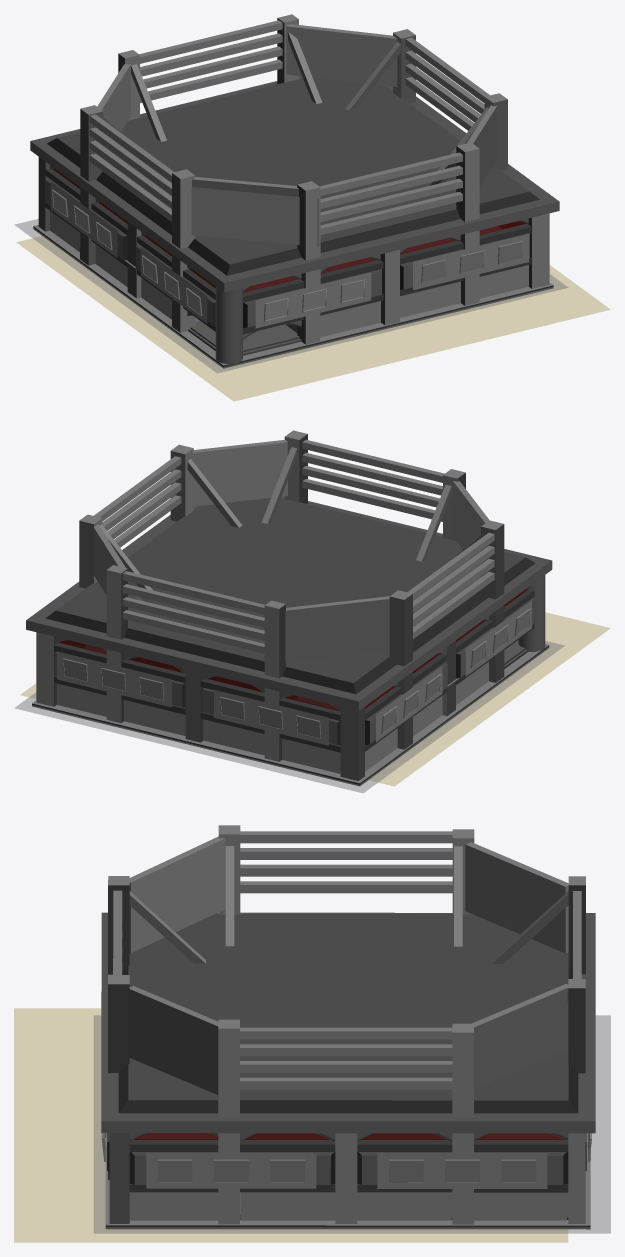
3 renders of one model, top to bottom at view 1: azimuth 30°, elevation 25°; view 2: azimuth 150°, elevation 25°; view 3: azimuth 270°, elevation 25°, orthographic. The views are drawn at different scales.
Parts seen in each view (by area): view 1: Arena, loja vodka (×10), Terrain 8,5; view 2: Arena, loja vodka (×7), Terrain 8,5; view 3: Arena, loja vodka (×7), Terrain 8,5.
Boxes of the visible parts, bbox=[...] form: Arena: bbox=[14, 14, 568, 373]; loja vodka (×10): bbox=[30, 76, 559, 352]; Terrain 8,5: bbox=[16, 236, 610, 401]; Arena: bbox=[14, 430, 564, 793]; loja vodka (×7): bbox=[26, 496, 552, 752]; Terrain 8,5: bbox=[20, 612, 610, 786]; Arena: bbox=[93, 825, 610, 1233]; loja vodka (×7): bbox=[101, 912, 595, 1192]; Terrain 8,5: bbox=[14, 1008, 568, 1242].
Size of what is drawn, in the model's own units: 64 by 25.71 by 68.93.
Materials: 77 (76 with a texture image).
